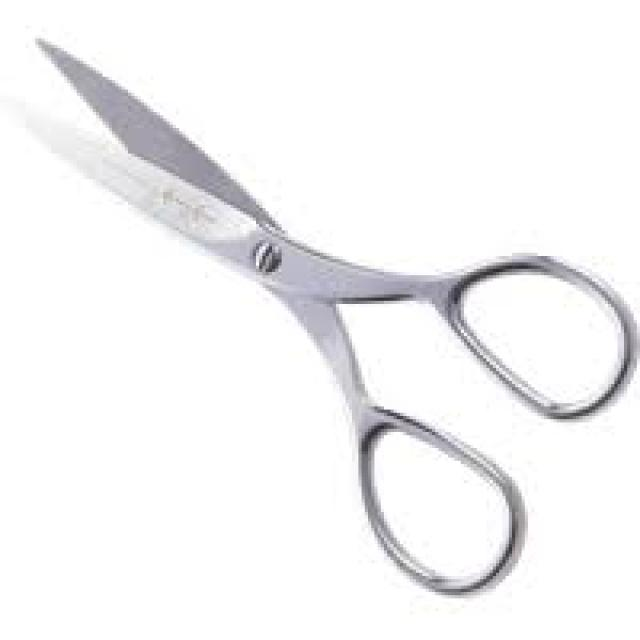scissor: (6, 32, 640, 598)
